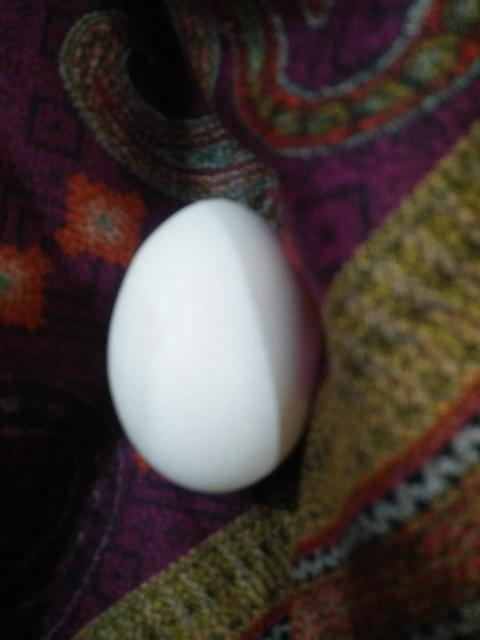Sano: (107, 199, 310, 495)
